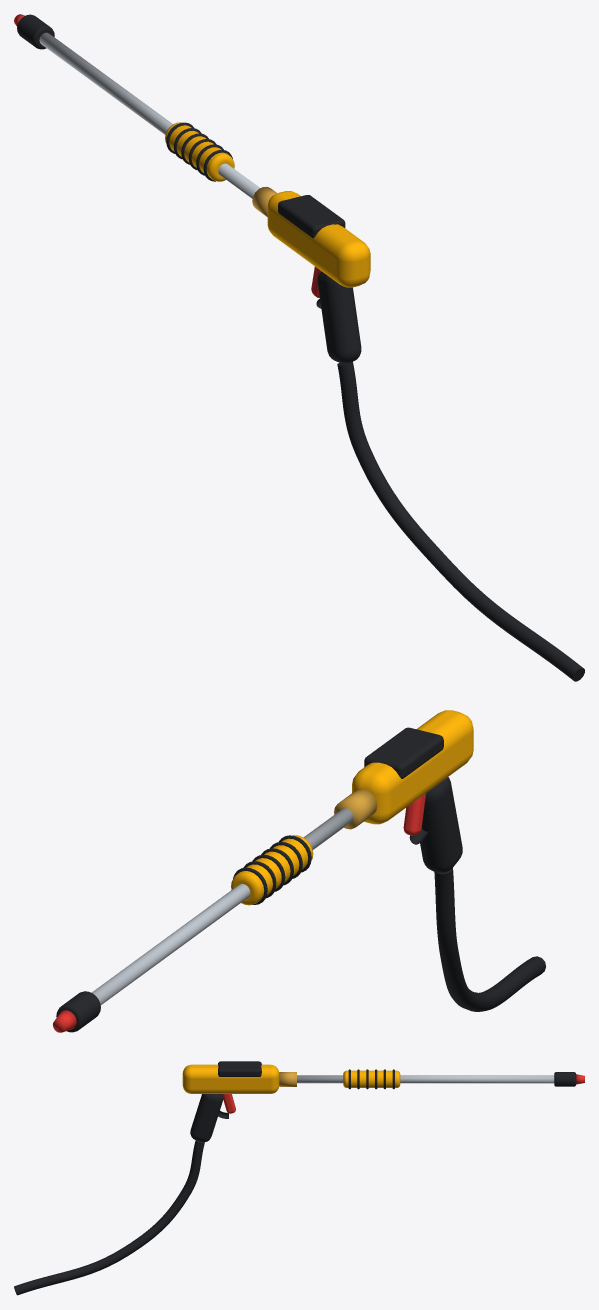
The model's file is washer.glb.
3 renders of one model, top to bottom at view 1: azimuth 30°, elevation 25°; view 2: azimuth 150°, elevation 25°; view 3: azimuth 270°, elevation 25°, orthographic. The views are drawn at different scales.
Parts seen in each view (by area): view 1: Hose, GunBody, Grip, Lance, GunStripe, LanceGrip; view 2: GunBody, Hose, Lance, Grip, GunStripe, LanceGrip, Coupler, NozzleBody, Trigger; view 3: Hose, GunBody, Lance, Grip, LanceGrip, GunStripe, NozzleBody.
Part boxes in pixels (x1,y1,x2,y2): Hose: (337, 362, 584, 681); GunBody: (267, 191, 370, 287); Grip: (317, 271, 361, 362); Lance: (39, 32, 260, 198); GunStripe: (278, 195, 345, 238); LanceGrip: (165, 122, 234, 181); GunBody: (352, 710, 473, 824); Hose: (434, 868, 545, 1011); Lance: (91, 808, 353, 1004); Grip: (420, 777, 462, 872); GunStripe: (364, 727, 443, 778); LanceGrip: (231, 835, 313, 905); Coupler: (334, 789, 377, 829); NozzleBody: (56, 991, 100, 1032); Trigger: (403, 793, 426, 835); Hose: (14, 1140, 204, 1295); GunBody: (182, 1064, 279, 1093); Lance: (297, 1075, 554, 1083); Grip: (190, 1094, 223, 1142); LanceGrip: (343, 1070, 400, 1087); GunStripe: (218, 1061, 261, 1076); NozzleBody: (554, 1072, 576, 1086).
Size of the model in its own units: 0.1567 by 0.5206 by 1.3.
